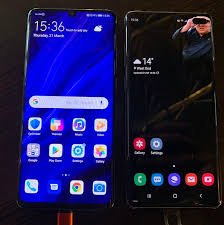huawei: (16, 3, 117, 213), (123, 5, 222, 210)
